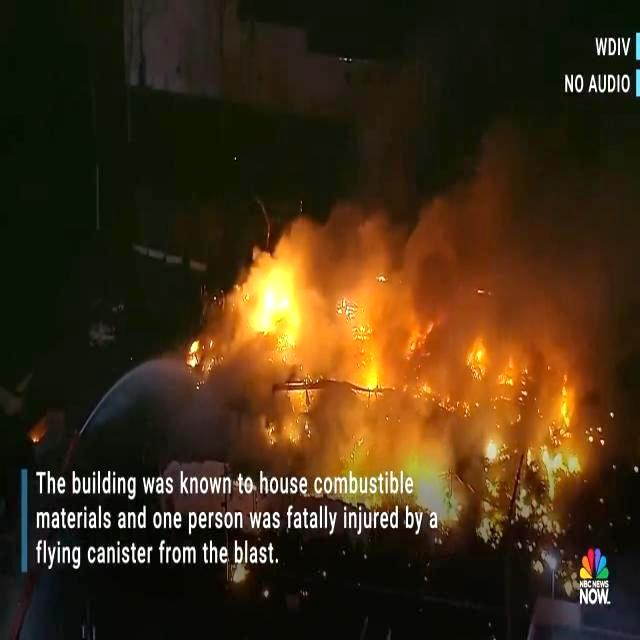fire: (416, 330, 588, 480), (236, 244, 404, 384), (427, 486, 558, 562), (293, 398, 411, 462)
